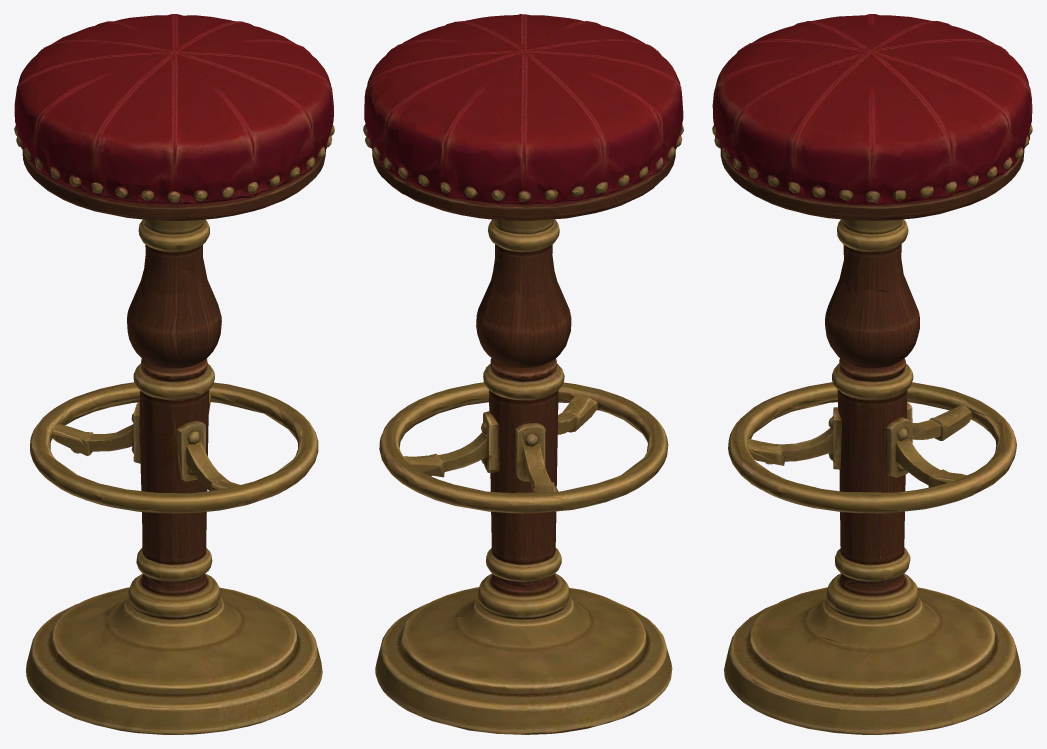
The model's file is stool.glb.
3 views of the same model, side by side, from view 1: azimuth 30°, elevation 25°; view 2: azimuth 150°, elevation 25°; view 3: azimuth 270°, elevation 25° (orthographic).
Visible parts, largest first — view 1: Mesh_0; view 2: Mesh_0; view 3: Mesh_0.
Boxes of the visible parts, x1,y1,x2,y2 form: Mesh_0: [14, 14, 334, 734]; Mesh_0: [363, 14, 683, 734]; Mesh_0: [712, 14, 1032, 734].
Size of the model in its own units: 0.8889 by 1.9 by 0.8889.
1 material, 1 textured.
